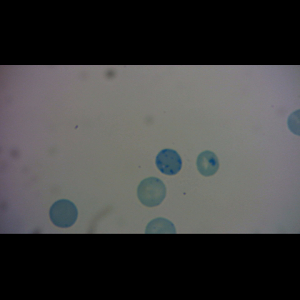aggregate reticulocyte: (154, 147, 183, 176)
erythrocyte: (49, 199, 78, 228), (195, 150, 220, 177)
punctate reticulocyte: (137, 176, 167, 207)
